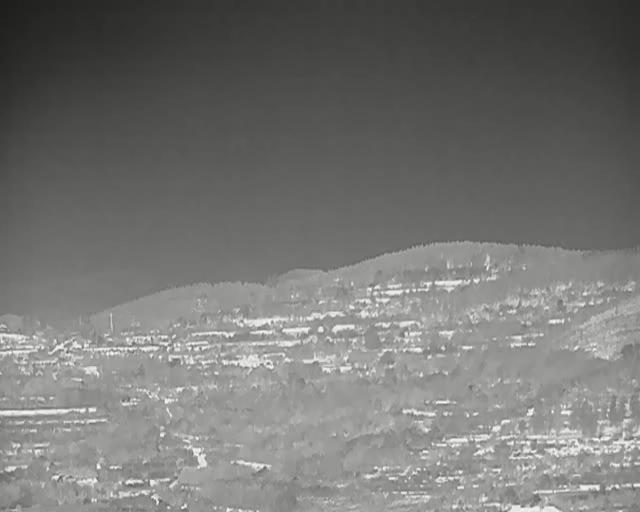uav: (71, 377, 84, 383)
